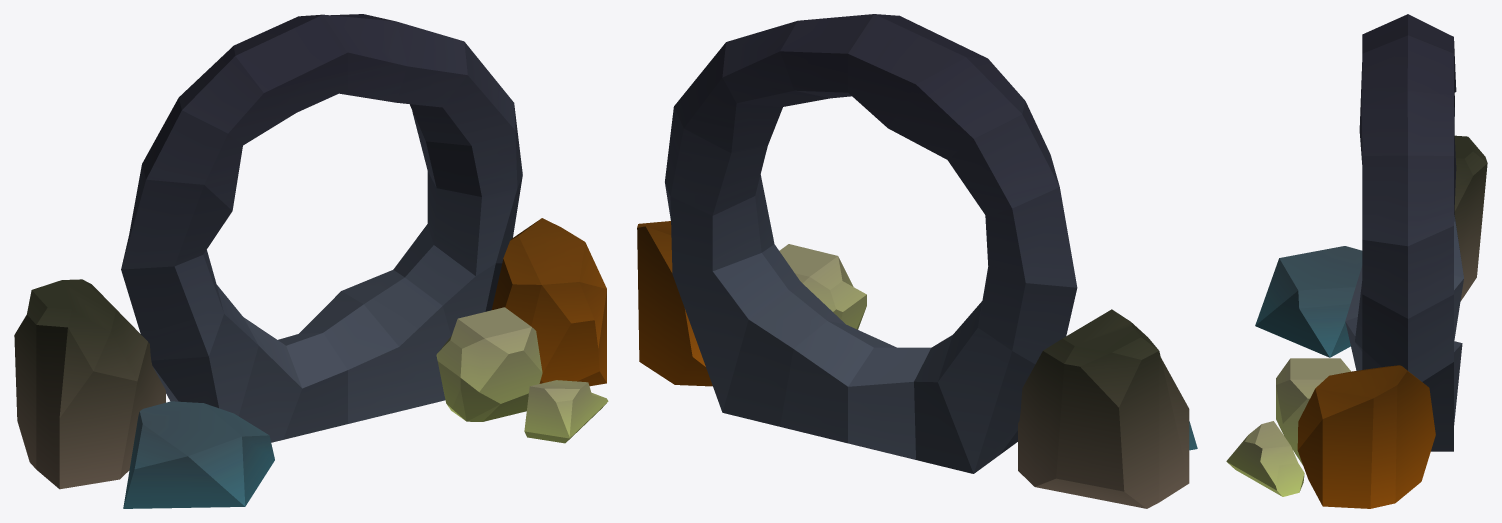
File: RocasPortal.fbx
3 renders of one model, left to right at view 1: azimuth 30°, elevation 25°; view 2: azimuth 150°, elevation 25°; view 3: azimuth 270°, elevation 25°, orthographic. The views are drawn at different scales.
Visible parts, largest first — view 1: portal, piedra roca, piedra agua, piedra fuego, piedra viento heroe, piedra viento; view 2: portal, piedra roca, piedra fuego, piedra viento heroe; view 3: portal, piedra fuego, piedra agua, piedra roca, piedra viento, piedra viento heroe.
Part boxes in pixels (x1,y1,x2,y2): portal: (121, 14, 522, 442); piedra roca: (14, 279, 165, 489); piedra agua: (123, 401, 274, 508); piedra fuego: (491, 218, 606, 386); piedra viento heroe: (436, 307, 542, 421); piedra viento: (524, 380, 608, 443); portal: (665, 14, 1077, 473); piedra roca: (1018, 309, 1189, 508); piedra fuego: (637, 221, 712, 386); piedra viento heroe: (779, 244, 866, 329); portal: (1345, 14, 1463, 451); piedra fuego: (1297, 365, 1435, 508); piedra agua: (1255, 246, 1362, 357); piedra roca: (1454, 135, 1487, 301); piedra viento: (1226, 421, 1304, 496); piedra viento heroe: (1276, 358, 1350, 464).
Bounding box in the file's own units: 760 × 550 × 353.
